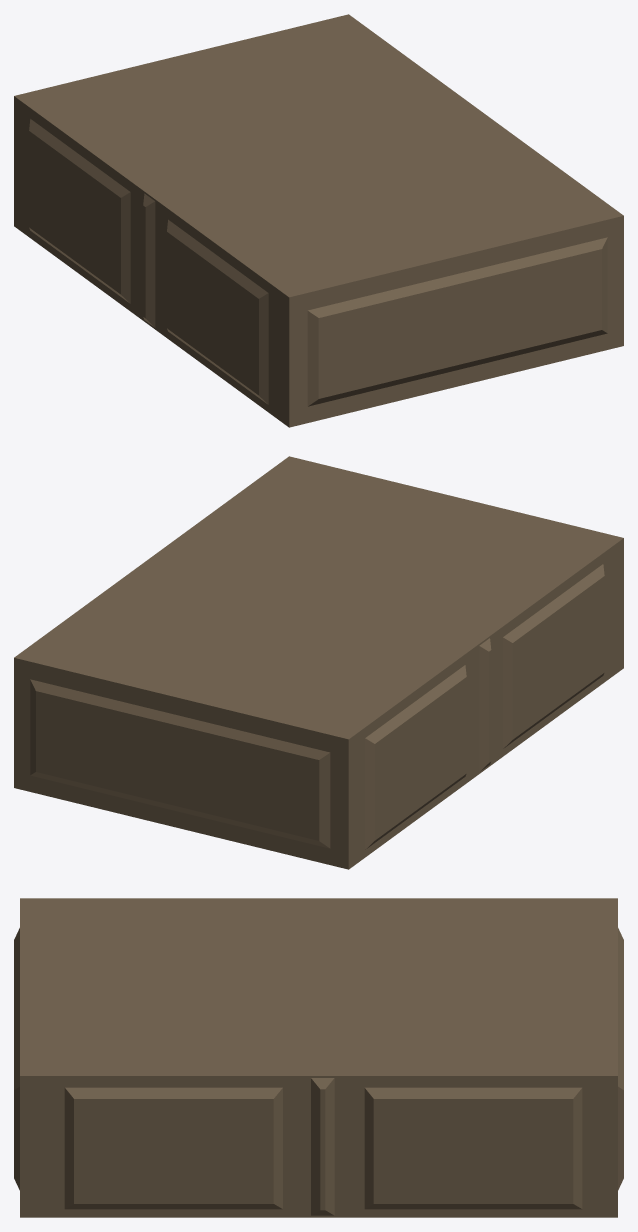
File: Itr_Bed_Double_Body_03.FBX
3 renders of one model, top to bottom at view 1: azimuth 30°, elevation 25°; view 2: azimuth 150°, elevation 25°; view 3: azimuth 270°, elevation 25°, orthographic. The views are drawn at different scales.
Parts seen in each view (by area): view 1: Itr_Bed_Double_Body_03; view 2: Itr_Bed_Double_Body_03; view 3: Itr_Bed_Double_Body_03.
Part boxes in pixels (x1=…): Itr_Bed_Double_Body_03: x1=14, y1=14, x2=623, y2=427; Itr_Bed_Double_Body_03: x1=14, y1=456, x2=623, y2=869; Itr_Bed_Double_Body_03: x1=14, y1=898, x2=623, y2=1217.
Bounding box in the file's own units: 65.62 × 23.62 × 92.26.
